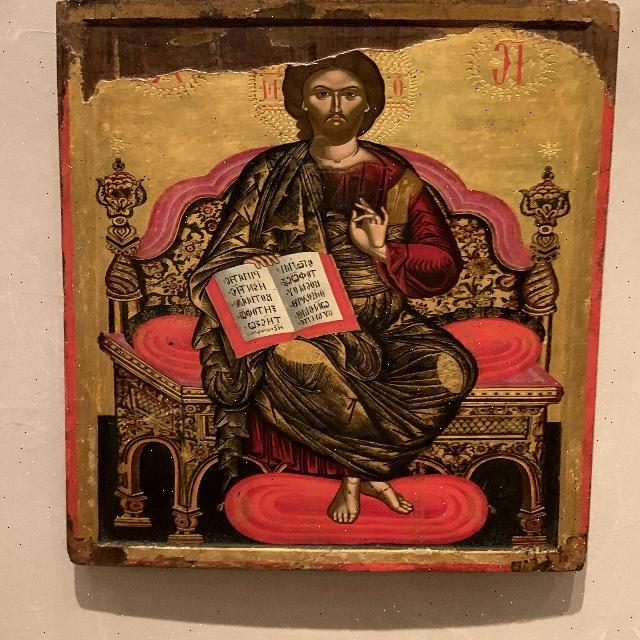aura: (248, 40, 422, 141)
book: (199, 248, 360, 342)
christ: (175, 36, 493, 538)
hand: (339, 193, 397, 260)
